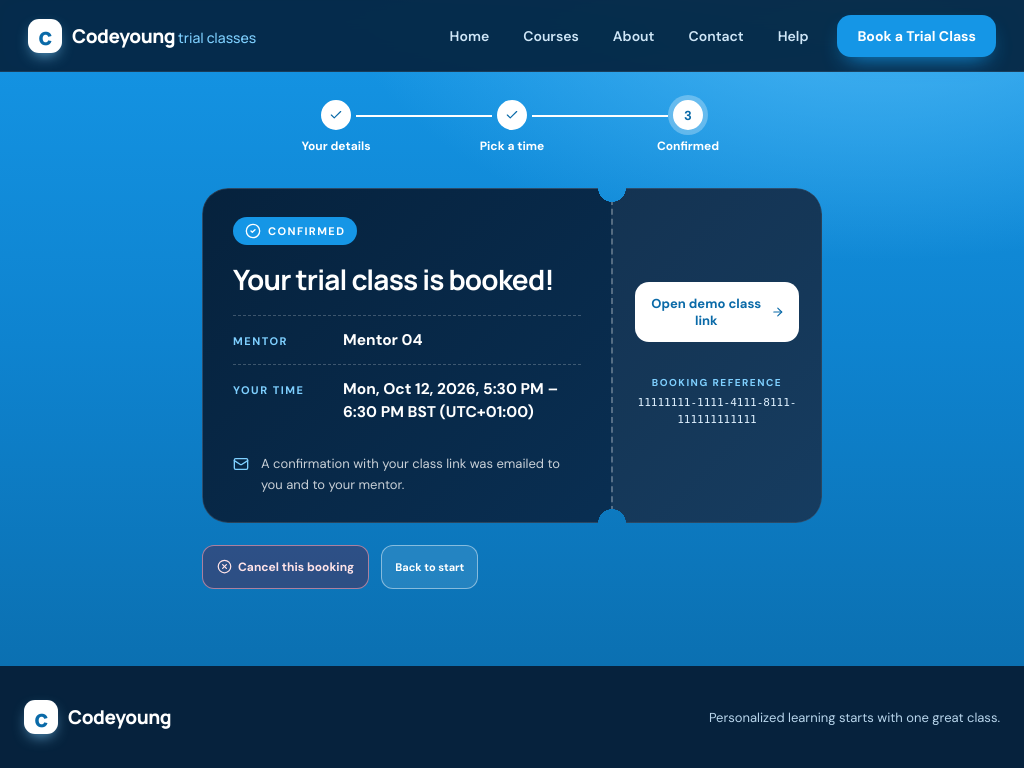
Test: parent booking journey (no login) › lets a parent cancel from the confirmation page
Click the button "Cancel this booking": (286, 567) [202,545,369,589]
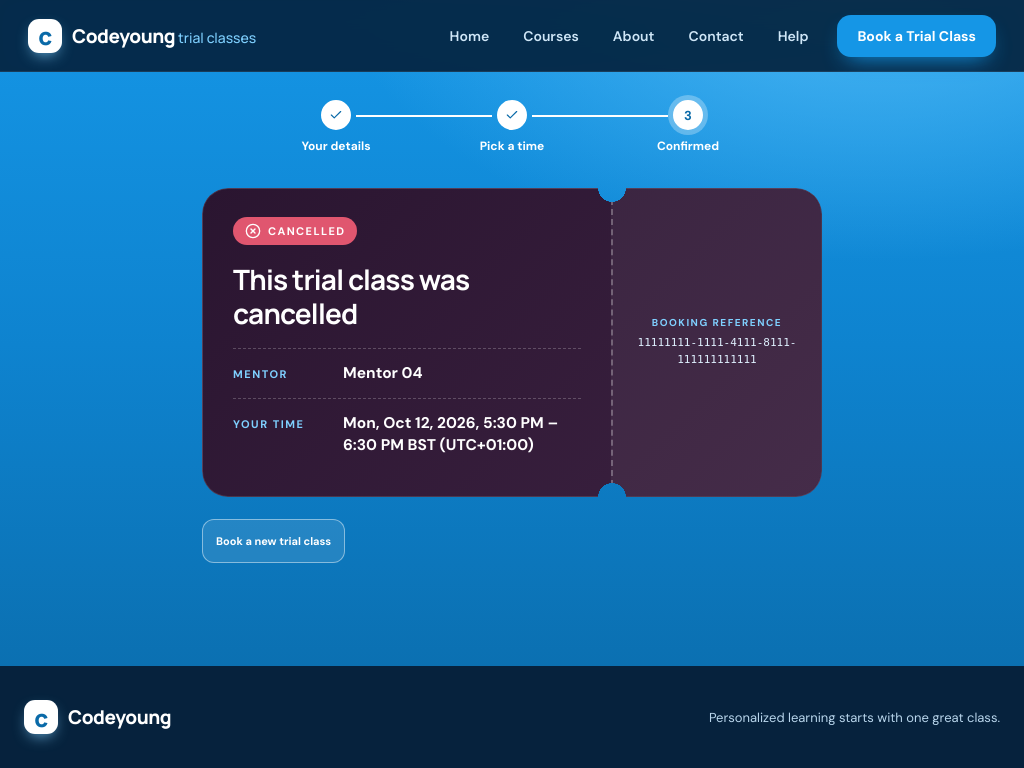
Result: the heading "This trial class was cancelled" is shown at [233,260,469,332]
